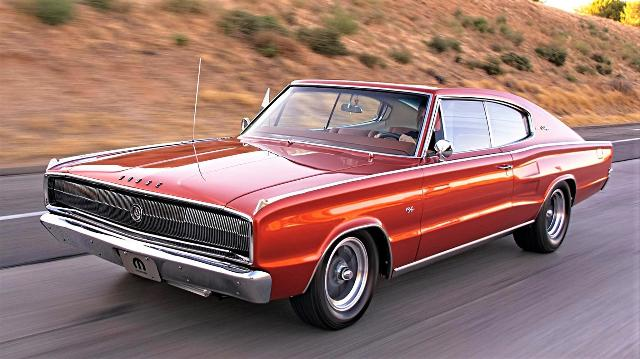dodge: (40, 58, 614, 332)
